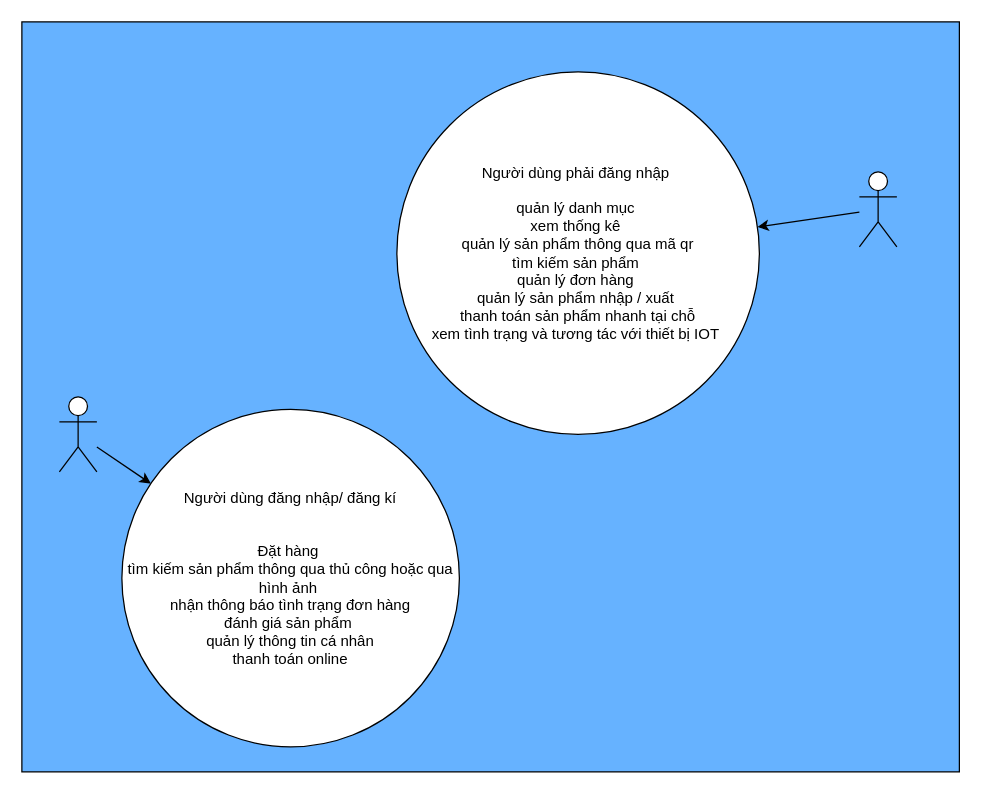
This 983x794 diagram has some shape labels left out. Here are the shapes that lost their labels. From the top down, the centre of each, then its label:
At pixel 877 209: "Người bán / quản trị viên".
At pixel 77 434: "Người dùng".
